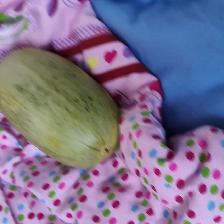gua: (9, 49, 109, 160)
